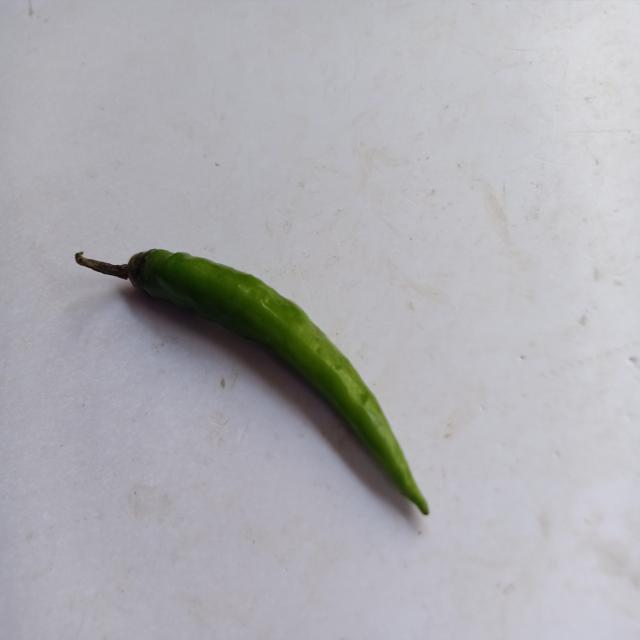Green Chilly: (74, 249, 429, 515)
